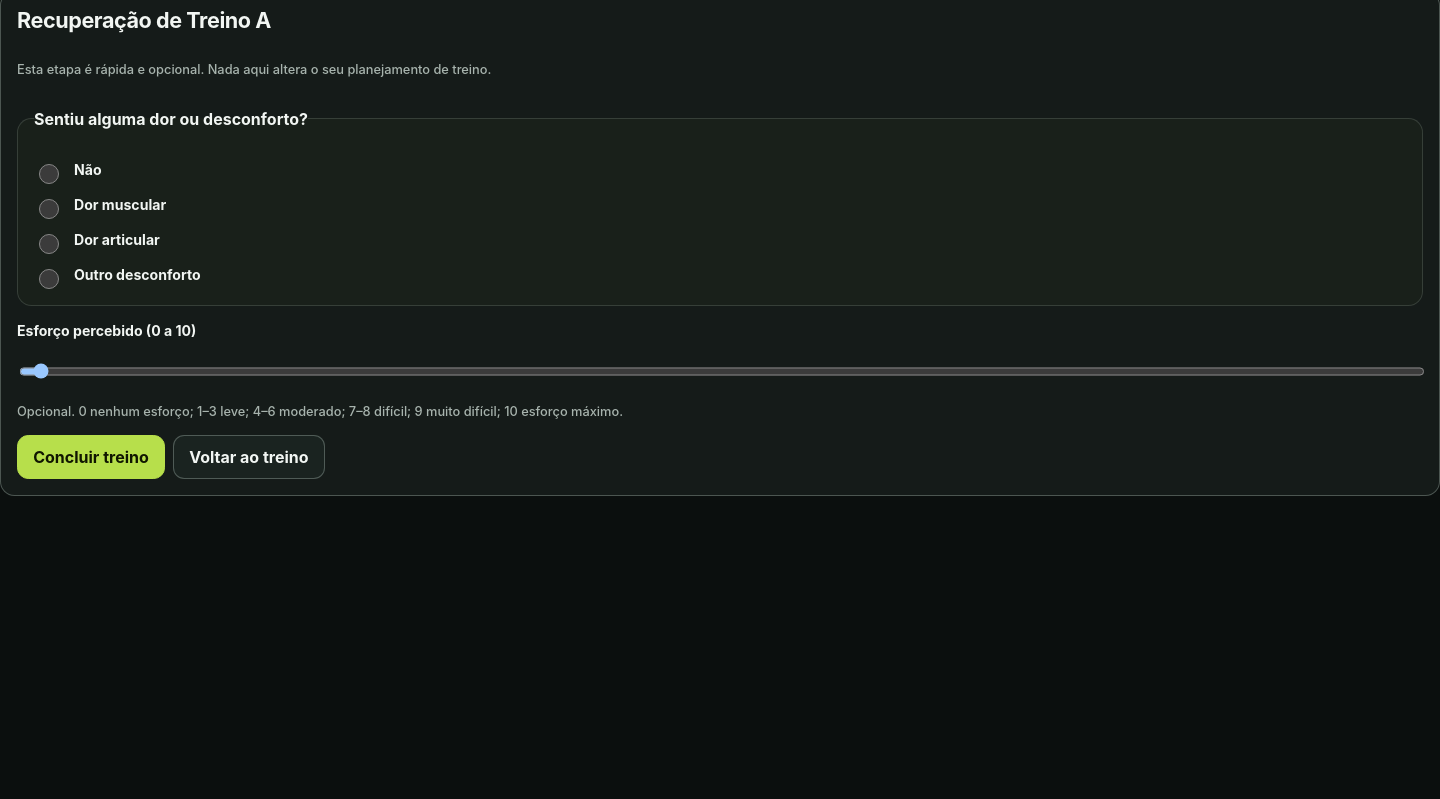
Test case: recovery step at the end of a workout › shows a discreet notice for intense joint pain, swelling or trouble bearing weight
Click the radio button labelled "Dor articular": (49, 244) [39,234,59,254]
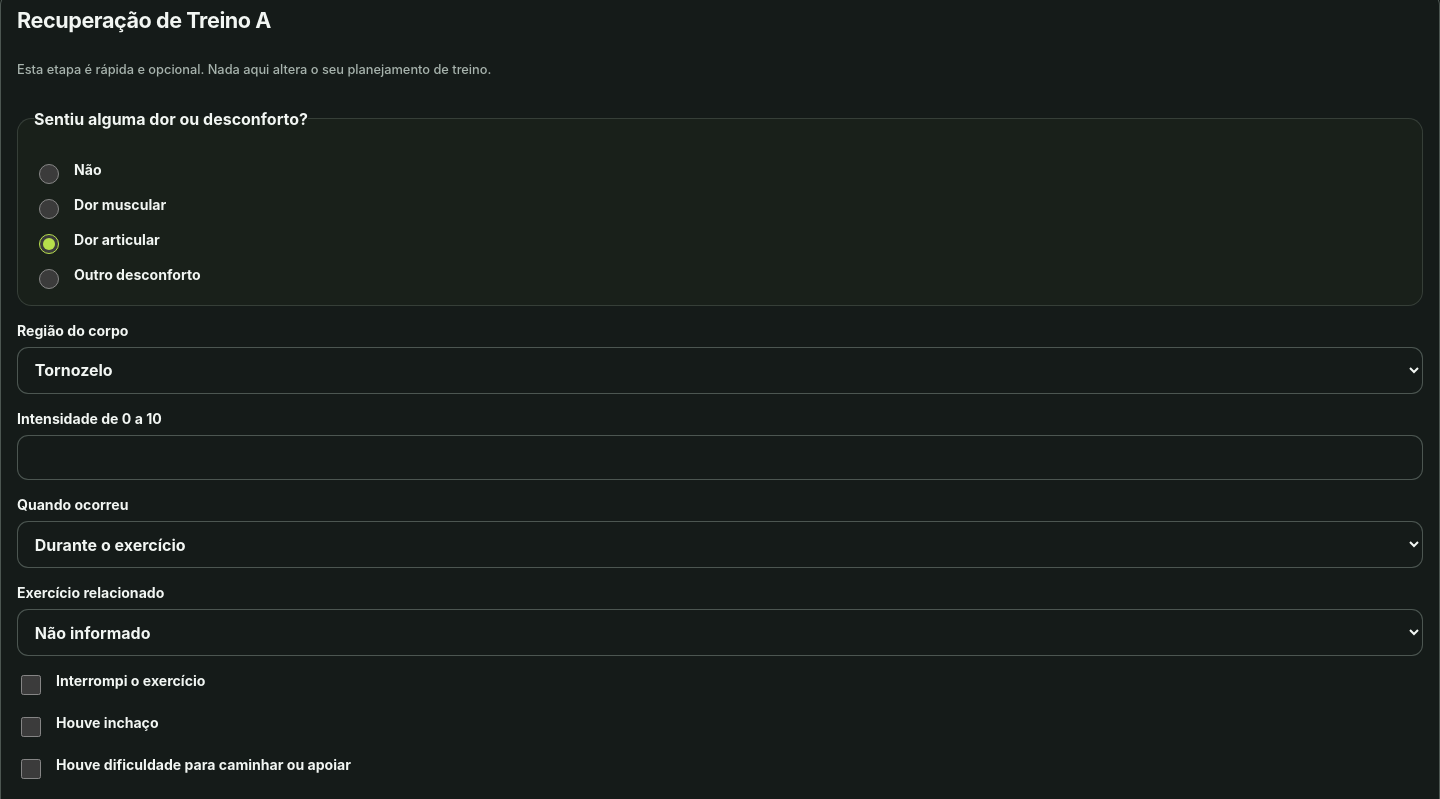
expect the message "atenção" is not shown: met
In the number field labelled "Intensidade de 0 a 10": (720, 458) [17,435,1423,480], type "8"
(page scrolled)
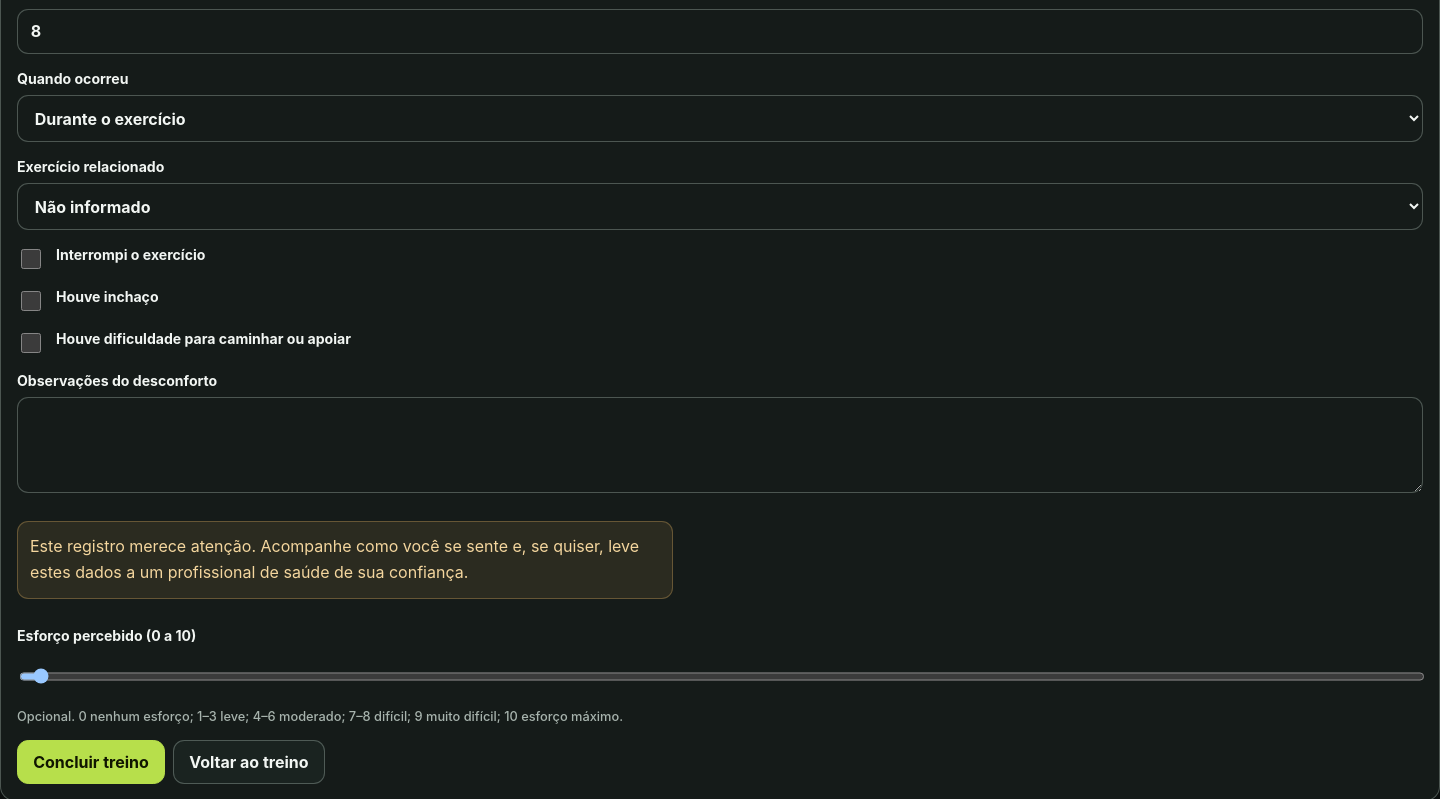
expect the message shows "merece atenção": met, box [30,536,639,582]
